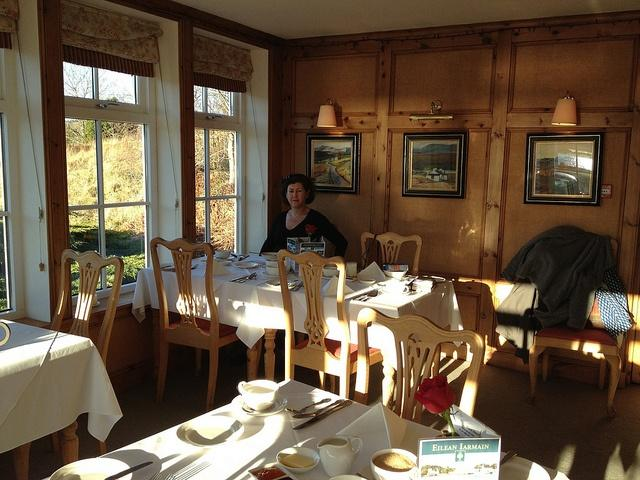Kursi: (149, 236, 242, 410), (276, 248, 381, 397), (48, 248, 123, 368)
